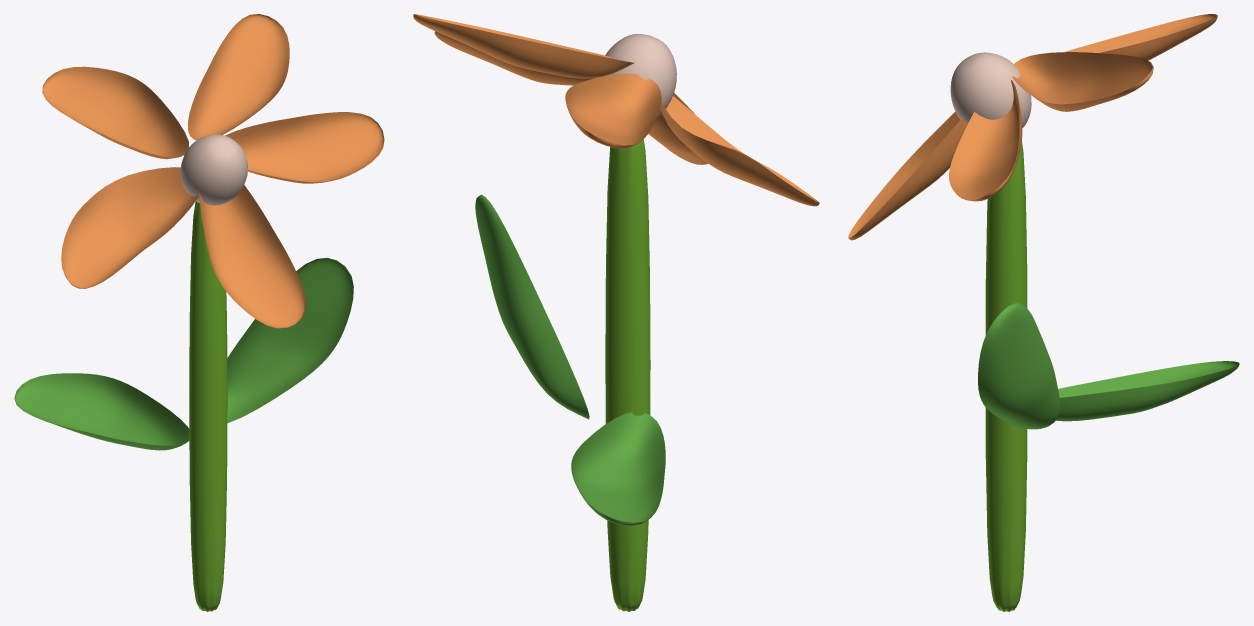
File: orange_flower.fbx
The picture shows the model from 3 angles, left to right: view 1: azimuth 30°, elevation 25°; view 2: azimuth 150°, elevation 25°; view 3: azimuth 270°, elevation 25°; orthographic projection. The views are drawn at different scales.
Visible parts, largest first — view 1: polySurface20; view 2: polySurface20; view 3: polySurface20.
Boxes of the visible parts, x1=… form: polySurface20: x1=14, y1=14, x2=384, y2=611; polySurface20: x1=413, y1=14, x2=819, y2=611; polySurface20: x1=848, y1=14, x2=1239, y2=611.
Size of the model in its own units: 2.24 by 3.48 by 2.06.
